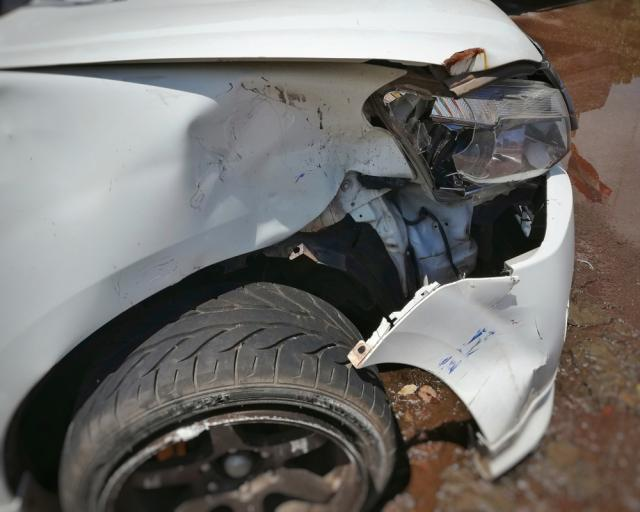dent: (179, 75, 410, 242), (361, 281, 546, 448), (445, 49, 498, 74)
lamp broken: (372, 66, 570, 193)
